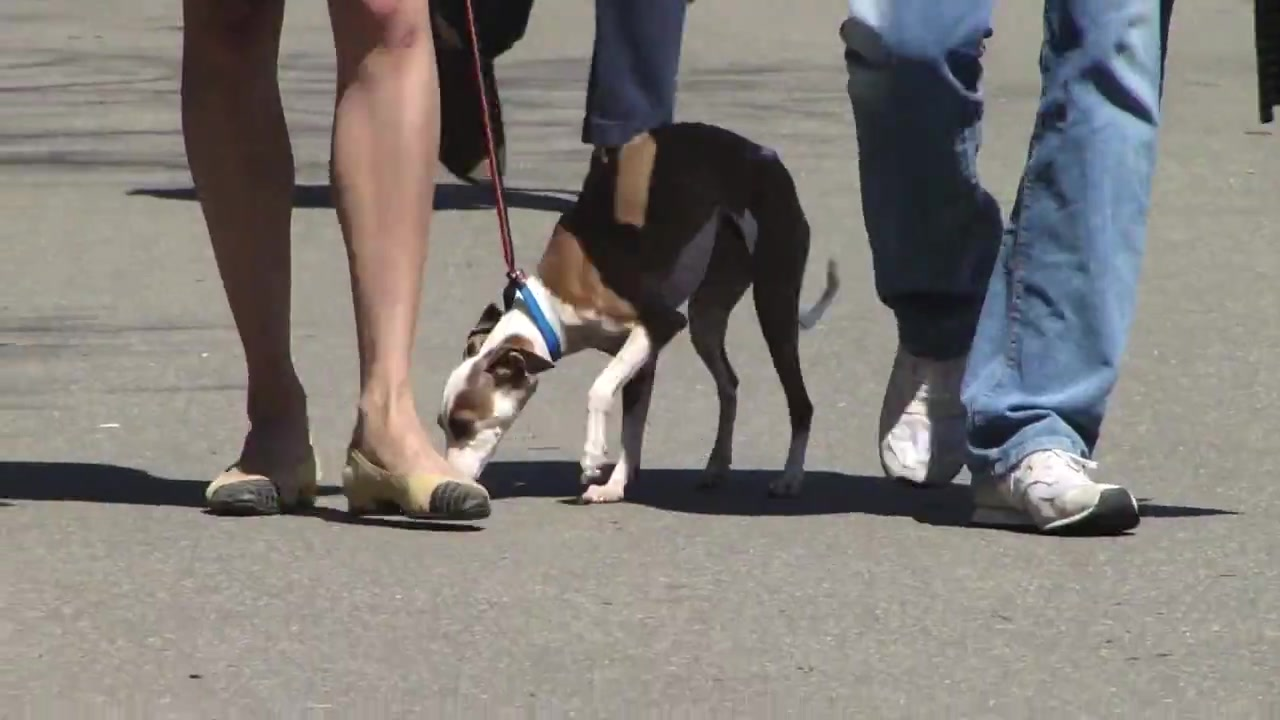dog: (435, 121, 842, 507)
